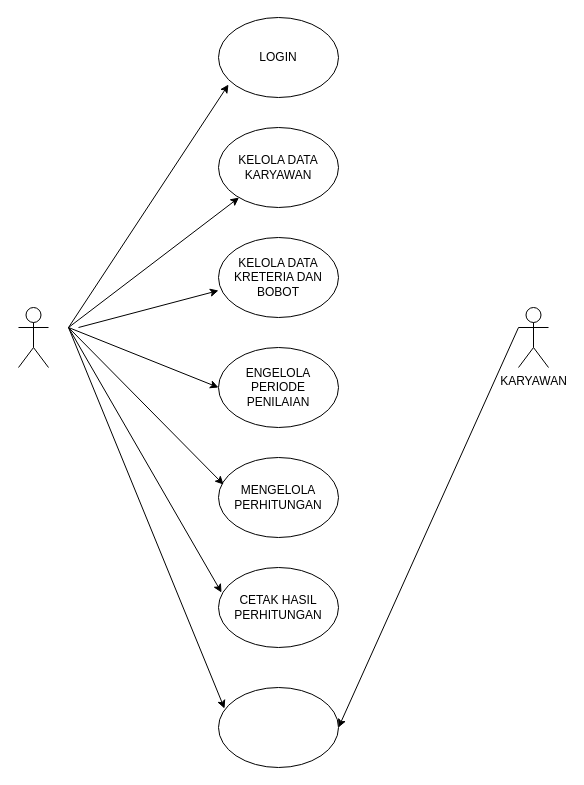
Some shapes in this 584 by 785 pixel diagram are drawn without their labels. Each missing label, with the box of its shape:
MELIHAT HASIL PERHITUNGAN: (218, 686, 338, 768)
USER: (18, 306, 48, 368)
